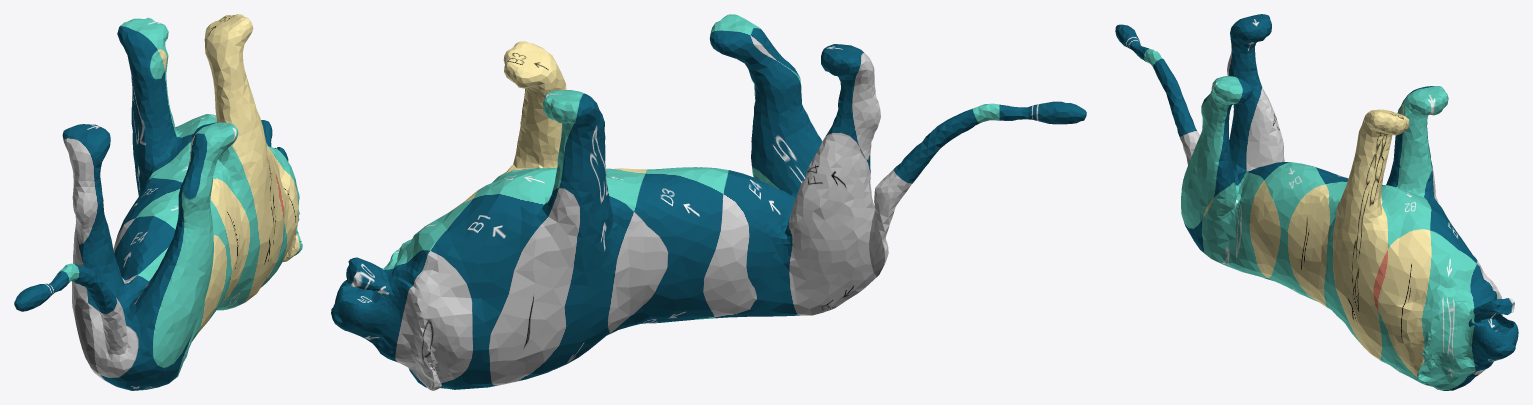
The model's file is lion_02-lion_05.obj.
The picture shows the model from 3 angles, left to right: view 1: azimuth 30°, elevation 25°; view 2: azimuth 150°, elevation 25°; view 3: azimuth 270°, elevation 25°; orthographic projection. The views are drawn at different scales.
Parts seen in each view (by area): view 1: lion_02-lion_05_export; view 2: lion_02-lion_05_export; view 3: lion_02-lion_05_export.
Part boxes in pixels (bbox=[...]): lion_02-lion_05_export: bbox=[14, 14, 302, 390]; lion_02-lion_05_export: bbox=[331, 14, 1086, 390]; lion_02-lion_05_export: bbox=[1115, 14, 1518, 390].
Size of the model in its own units: 0.9703 by 0.5734 by 0.8065.
